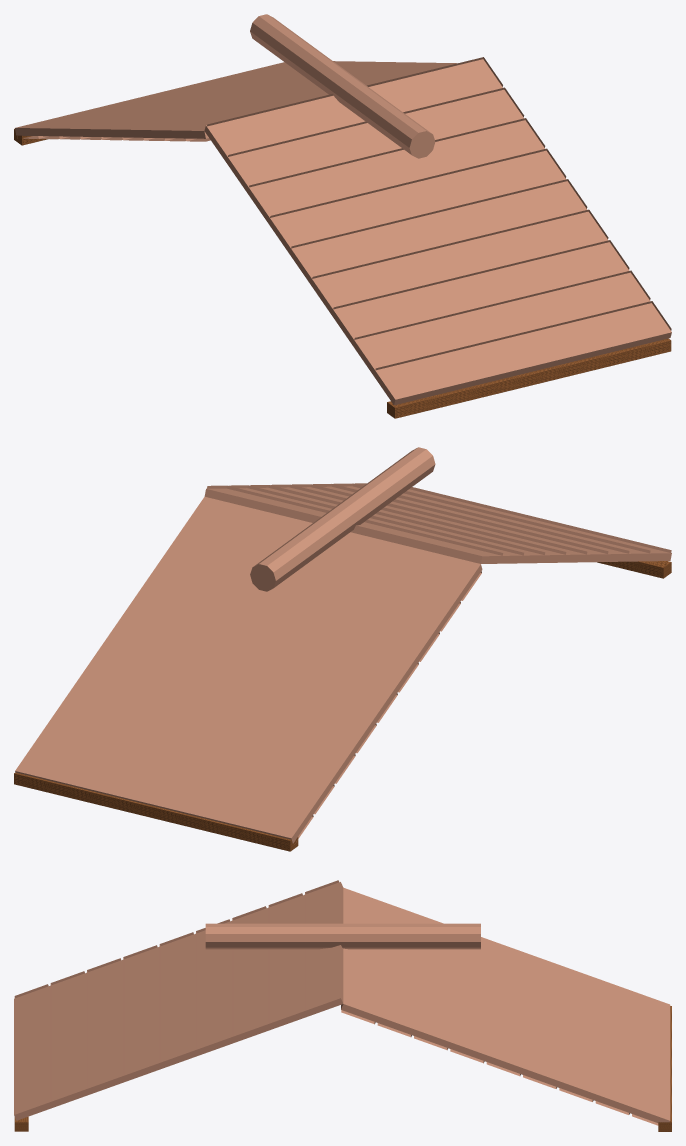
The model's file is pirate-port-and-tall-ships-tiled-roof-section-e06bb173__30145.glb.
The picture shows the model from 3 angles, top to bottom: view 1: azimuth 30°, elevation 25°; view 2: azimuth 150°, elevation 25°; view 3: azimuth 270°, elevation 25°; orthographic projection. The views are drawn at different scales.
Visible parts, largest first — view 1: tiled-roof-section; view 2: tiled-roof-section; view 3: tiled-roof-section.
Part boxes in pixels (bbox=[...]): tiled-roof-section: bbox=[14, 14, 671, 418]; tiled-roof-section: bbox=[14, 447, 671, 851]; tiled-roof-section: bbox=[14, 880, 671, 1131].
Bounding box in the file's own units: 3.2 × 1.9 × 7.65.
2 materials, 1 textured.
